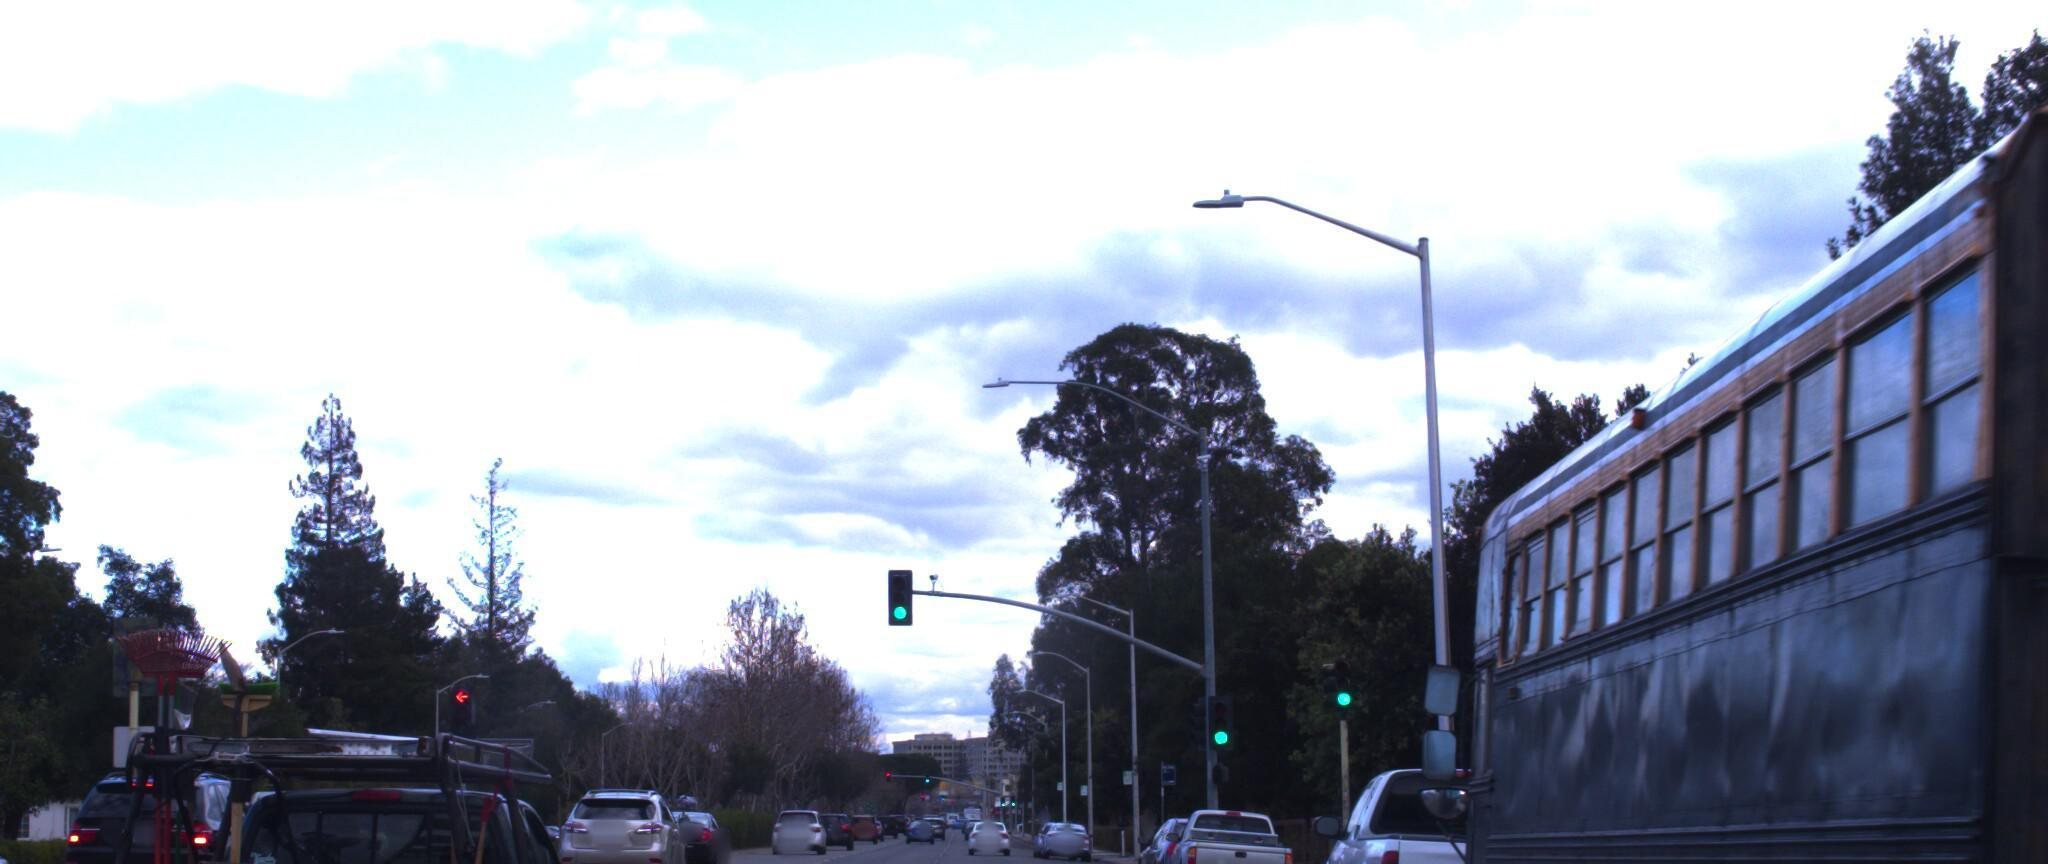bus: (1415, 84, 2048, 864)
car: (27, 594, 631, 864), (1304, 750, 1597, 864), (59, 769, 293, 864), (562, 773, 699, 864), (1159, 779, 1293, 864), (1121, 784, 1236, 864), (0, 770, 38, 864)
